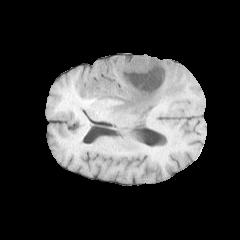glioma: (83, 55, 187, 118)
